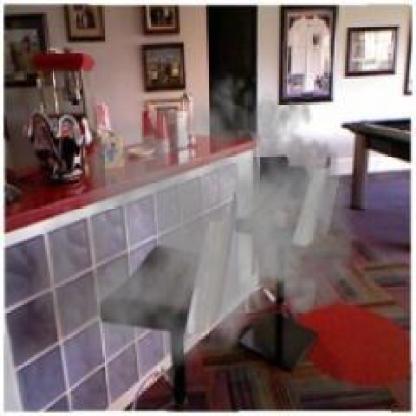Smoke: (28, 61, 364, 398)
